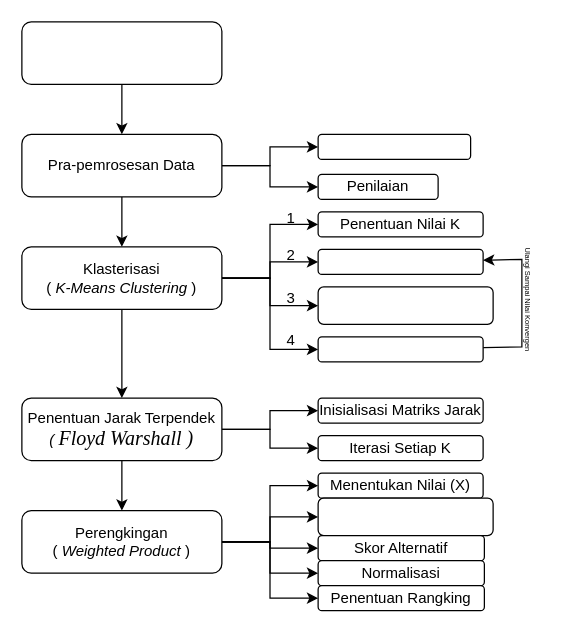
This 563x633 diagram has some shape labels left out. Here are the shapes that lost their labels. From the top down, the centre of each, then its label:
At pixel 121 52: "Pengumpulan Data".
At pixel 394 146: "Penentuan Kriteria".
At pixel 400 261: "Inisialisasi Centroid".
At pixel 405 305: "Menghitung Jarang Antar Centroid".
At pixel 400 349: "Mengelompokan Klaster".
At pixel 405 516: "Mengubah Bobot Berdasarkan Tipe".
